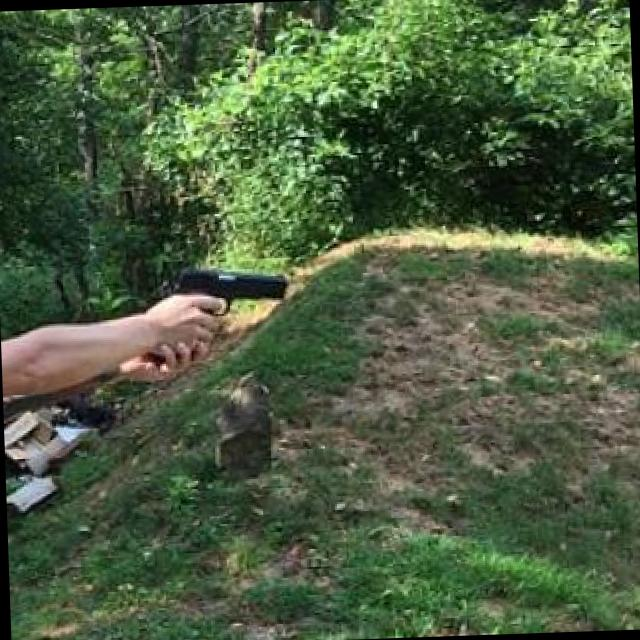Guns: (164, 252, 298, 346)
